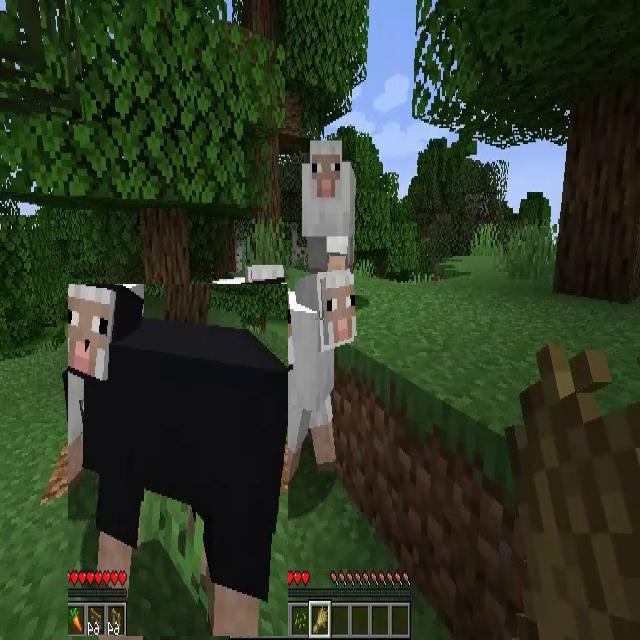sheep: (68, 284, 288, 636), (273, 267, 355, 478), (301, 138, 357, 276)
